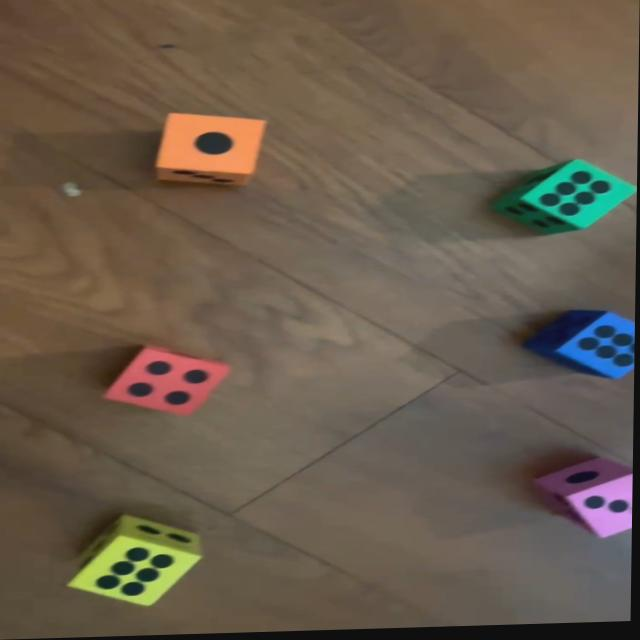blue_block: (521, 313, 636, 386)
red_block: (107, 344, 233, 417)
